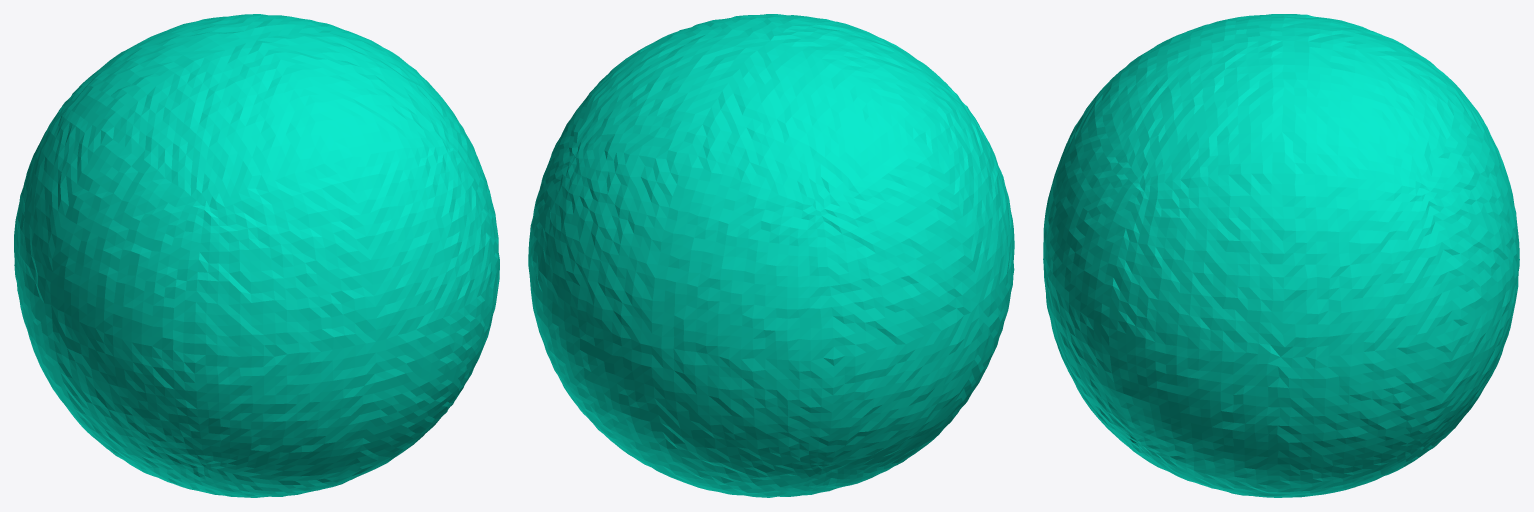
File: Sea49.fbx
3 renders of one model, left to right at view 1: azimuth 30°, elevation 25°; view 2: azimuth 150°, elevation 25°; view 3: azimuth 270°, elevation 25°, orthographic.
Parts seen in each view (by area): view 1: pCube1; view 2: pCube1; view 3: pCube1.
Part boxes in pixels (x1,y1,x2,y2): pCube1: [14, 14, 499, 497]; pCube1: [528, 14, 1014, 497]; pCube1: [1043, 14, 1519, 497].
Size of the model in its own units: 40.57 by 40.62 by 40.55.
